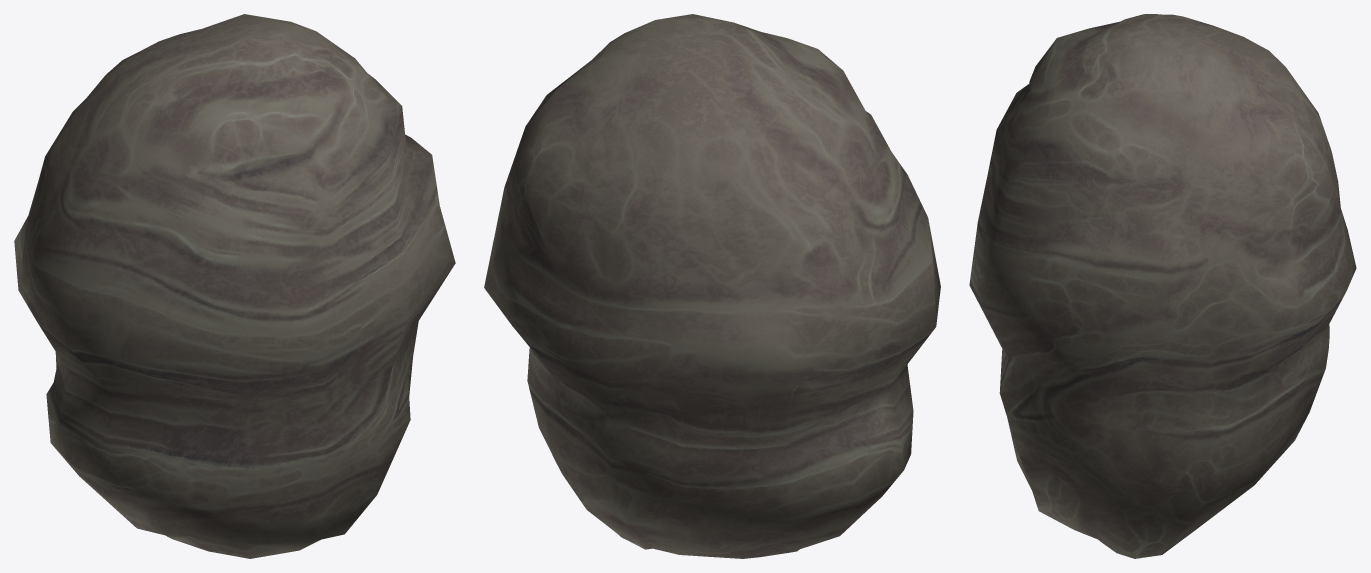
Rendered from stone.fbx.
The picture shows the model from 3 angles, left to right: view 1: azimuth 30°, elevation 25°; view 2: azimuth 150°, elevation 25°; view 3: azimuth 270°, elevation 25°; orthographic projection. The views are drawn at different scales.
Visible parts, largest first — view 1: stone; view 2: stone; view 3: stone.
Part boxes in pixels (x1,y1,x2,y2): stone: (14, 14, 455, 558); stone: (484, 14, 940, 558); stone: (969, 14, 1356, 558).
Size of the model in its own units: 2.45 by 3.21 by 2.25.
